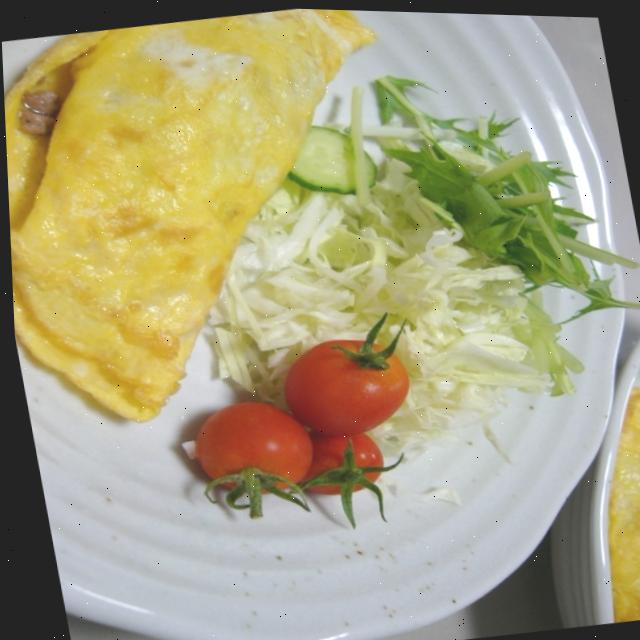鸡蛋料理: (0, 0, 466, 440)
